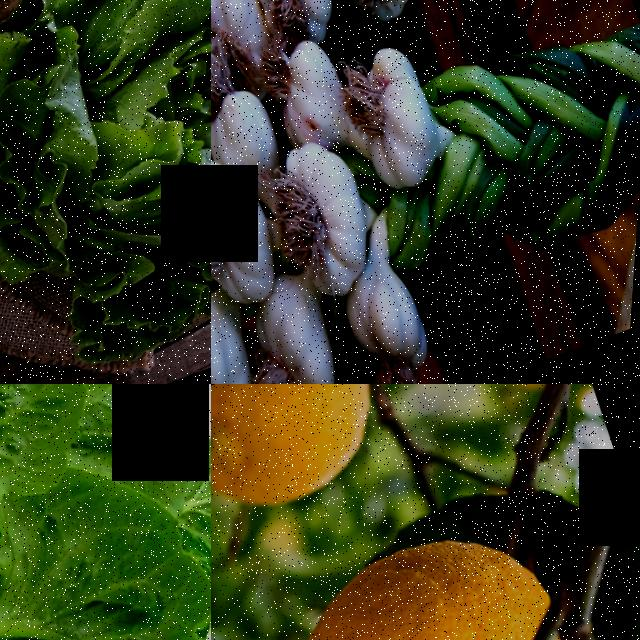garlic: (332, 31, 468, 194), (260, 126, 396, 289), (335, 251, 454, 384), (211, 150, 299, 312), (245, 275, 370, 384), (211, 0, 291, 93), (211, 279, 279, 384), (238, 0, 353, 52), (320, 0, 432, 28)
lemon: (248, 504, 586, 640), (211, 384, 410, 537)
lettuce: (0, 0, 211, 384), (0, 384, 211, 640)
